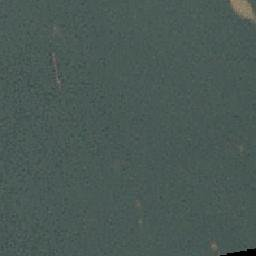debris: (230, 1, 255, 22)
